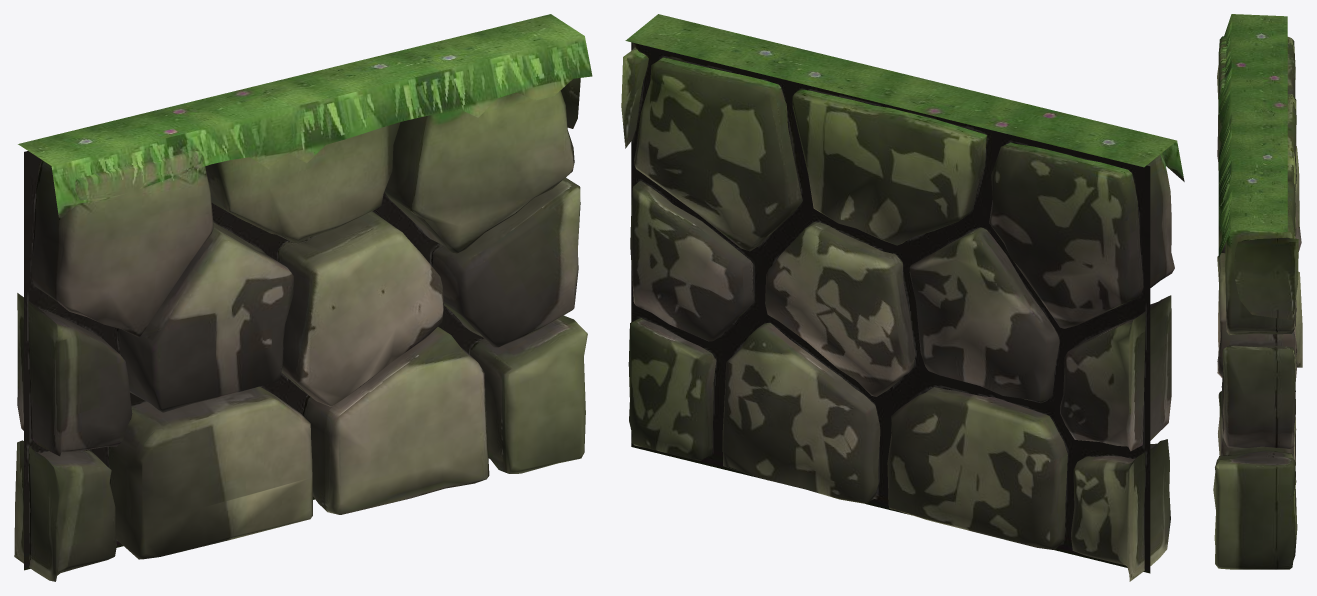
File: wall2_b.glb
The picture shows the model from 3 angles, left to right: view 1: azimuth 30°, elevation 25°; view 2: azimuth 150°, elevation 25°; view 3: azimuth 270°, elevation 25°; orthographic projection. The views are drawn at different scales.
Visible parts, largest first — view 1: wall2_b; view 2: wall2_b; view 3: wall2_b.
Boxes of the visible parts, left/top/right/bottom form: wall2_b: left=14, top=14, right=592, bottom=581; wall2_b: left=621, top=14, right=1184, bottom=581; wall2_b: left=1213, top=14, right=1302, bottom=569.
Bounding box in the file's own units: 2 × 1.52 × 0.35.
Materials: 1 (1 with a texture image).
